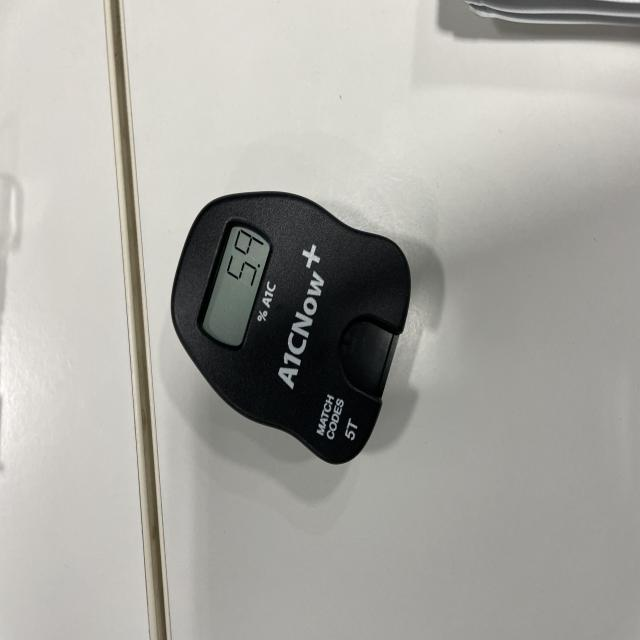hba1c: (170, 192, 414, 467)
